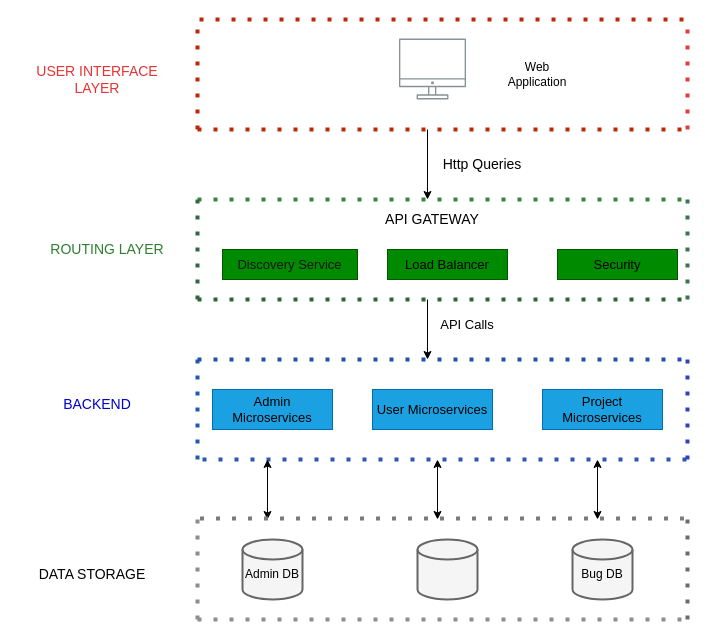
This 715x639 diagram has some shape labels left out. The shapes that lost their labels are listed below. From the top down, each one's box as (x1, y1, x2, y2) in pixels, then its label:
(398, 38, 466, 99): desktop
(416, 538, 478, 600): User DB
